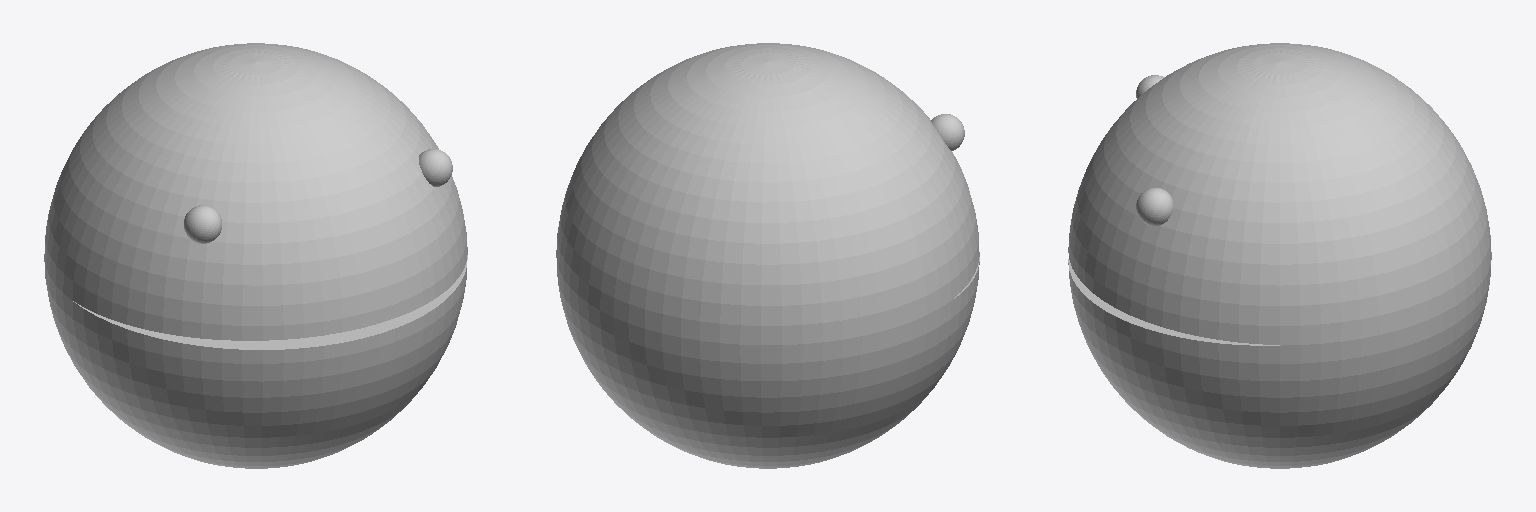
The model's file is pacman0014.obj.
The picture shows the model from 3 angles: view 1: azimuth 30°, elevation 25°; view 2: azimuth 150°, elevation 25°; view 3: azimuth 270°, elevation 25°; orthographic projection.
Parts seen in each view (by area): view 1: Body, Eyes; view 2: Body, Eyes; view 3: Body, Eyes.
Part boxes in pixels (x1,y1,x2,y2): Body: (44,43,467,468); Eyes: (184,149,452,243); Body: (556,43,979,468); Eyes: (931,114,964,150); Body: (1068,43,1491,468); Eyes: (1136,75,1172,225).
Size of the model in its own units: 6.6 by 6.67 by 6.6.